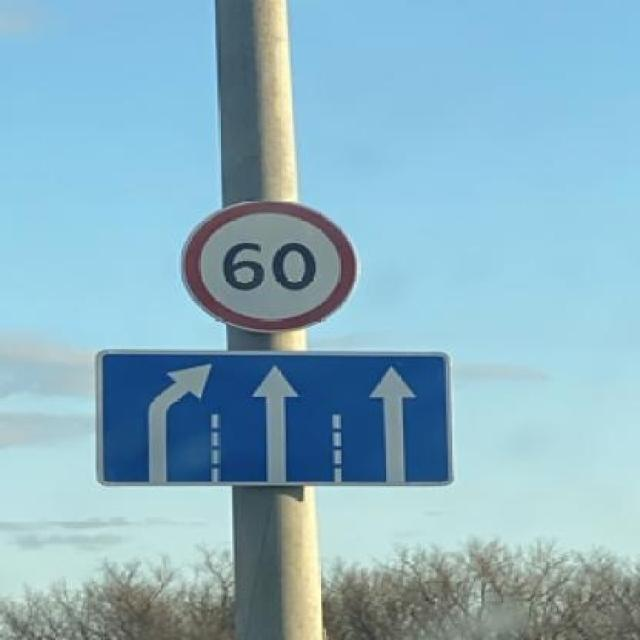forb_speed_over_60: (183, 202, 355, 333)
